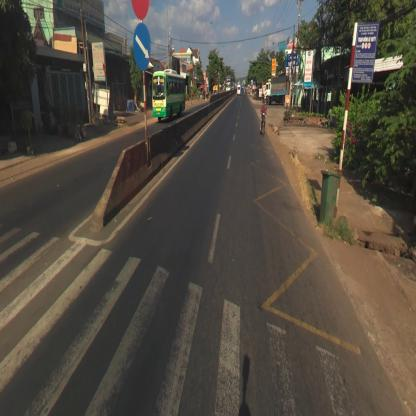Cam nguoc chieu: (131, 0, 150, 23)
Hieu lenh: (132, 21, 152, 70)
